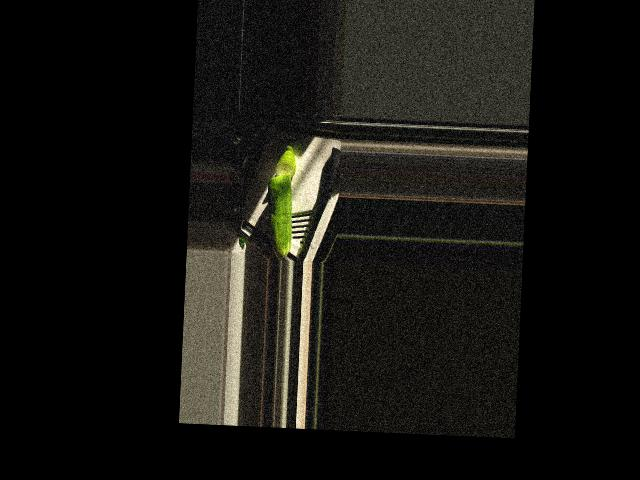cucumber: (265, 173, 294, 258)
